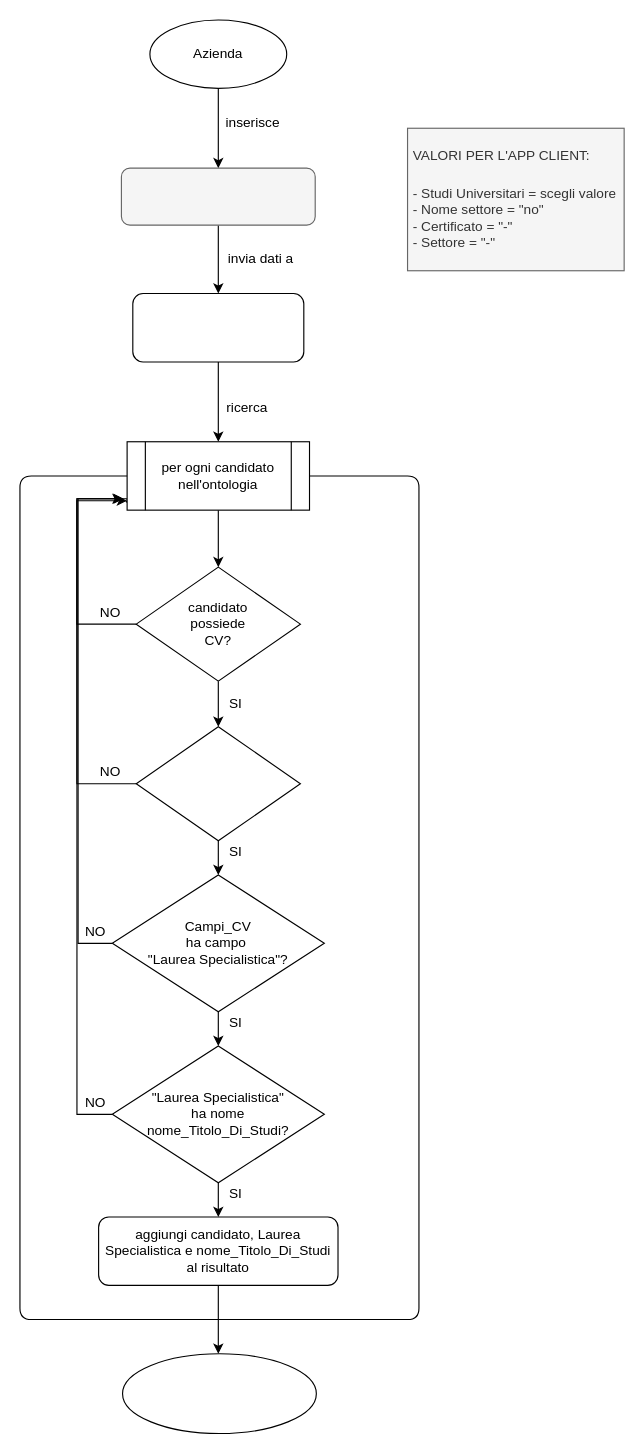
Image size: 644x1454. Some labels were removed from this diagram. The shapes that lost their labels are listed below. From the top down, each one's centre as x and y in pixels, then its label:
the point at 217,196: - Studi universitari: Laurea Specialistica
the point at 218,327: SIstema (Ontologia del lavoro)
the point at 217,783: CV contiene Campi_CV?
the point at 218,1393: mostra tutti i candidati nel risultato all'utente
